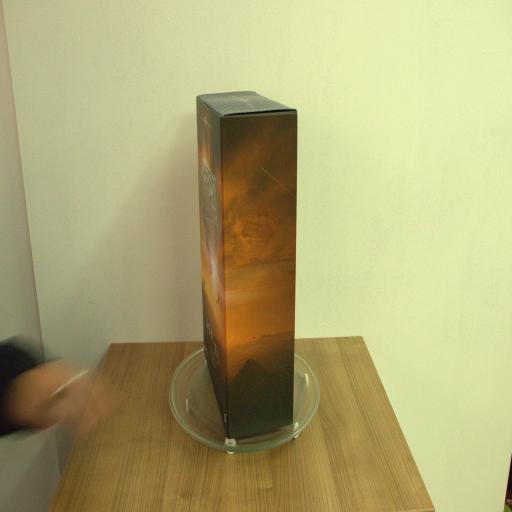superman: (198, 91, 298, 441)
